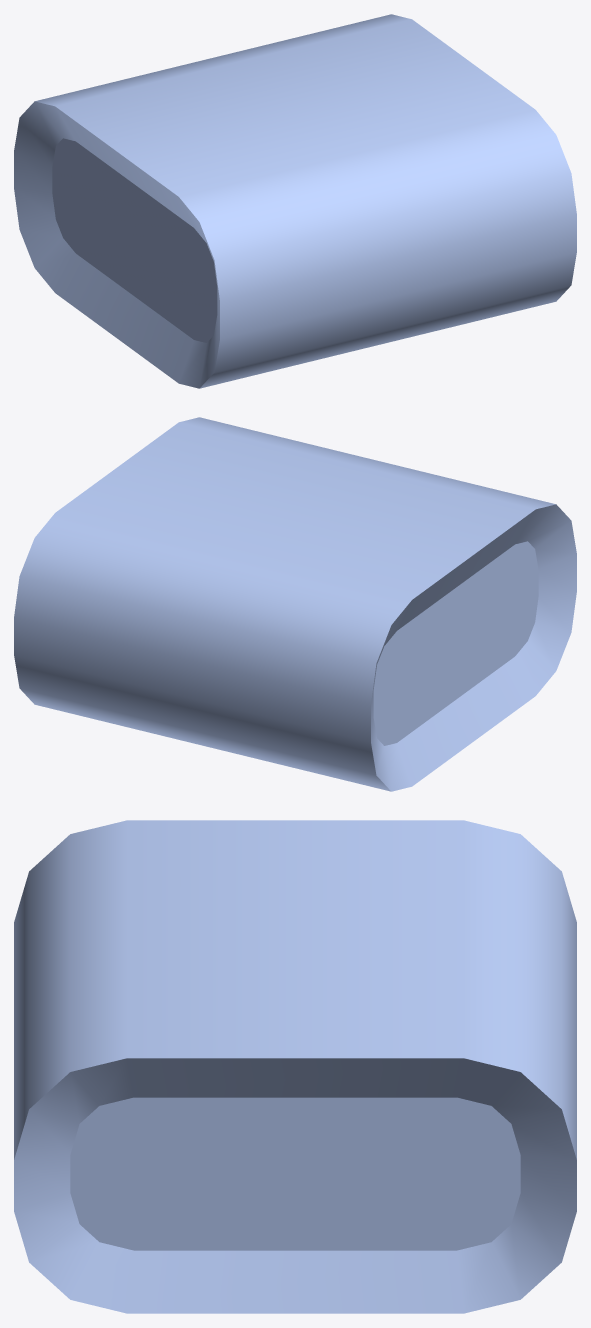
3 renders of one model, top to bottom at view 1: azimuth 30°, elevation 25°; view 2: azimuth 150°, elevation 25°; view 3: azimuth 270°, elevation 25°, orthographic. The views are drawn at different scales.
Parts seen in each view (by area): view 1: cube_a_mesh; view 2: cube_a_mesh; view 3: cube_a_mesh.
Part boxes in pixels (<box>): cube_a_mesh: <box>14,14,576,388</box>; cube_a_mesh: <box>14,417,576,791</box>; cube_a_mesh: <box>14,820,576,1313</box>.
Bounding box in the file's own units: 2 × 1 × 2.
